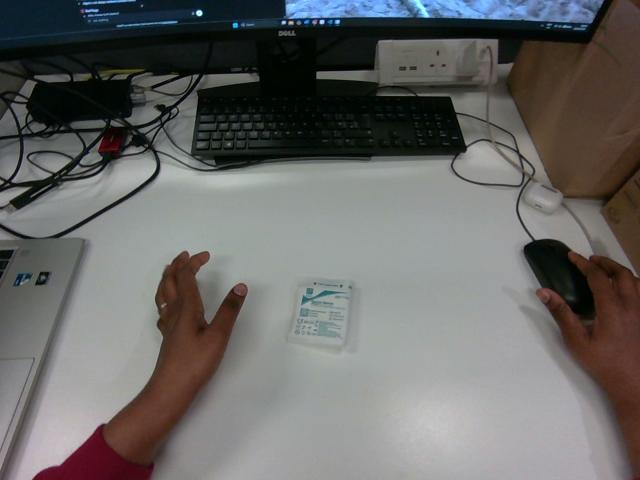gauze: (287, 279, 352, 350)
